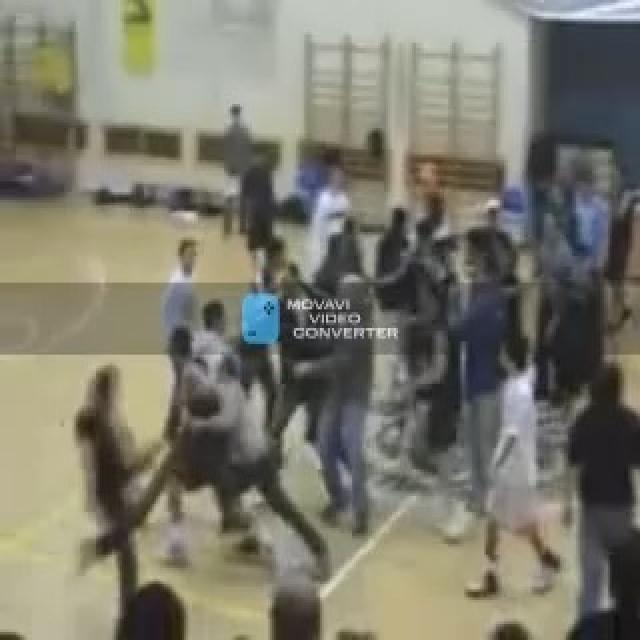non-voilence: (64, 123, 638, 637)
